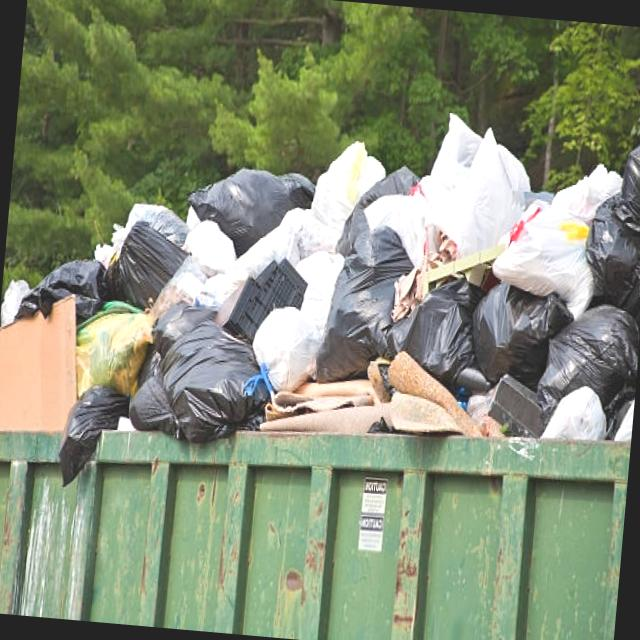garbage: (0, 35, 640, 509)
